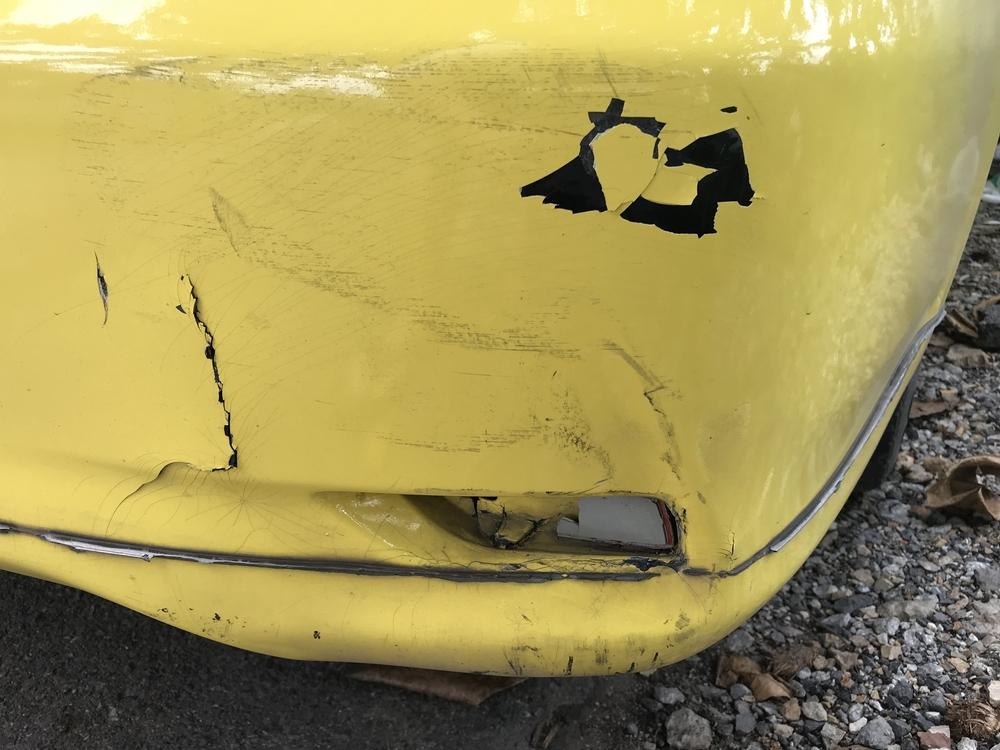crack: (104, 278, 241, 540), (94, 252, 109, 329)
scratch: (66, 45, 773, 495)
